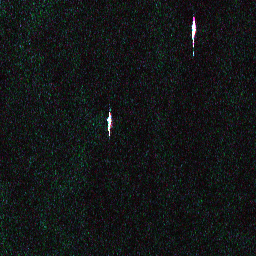ship: (190, 20, 198, 40), (105, 113, 113, 132)
